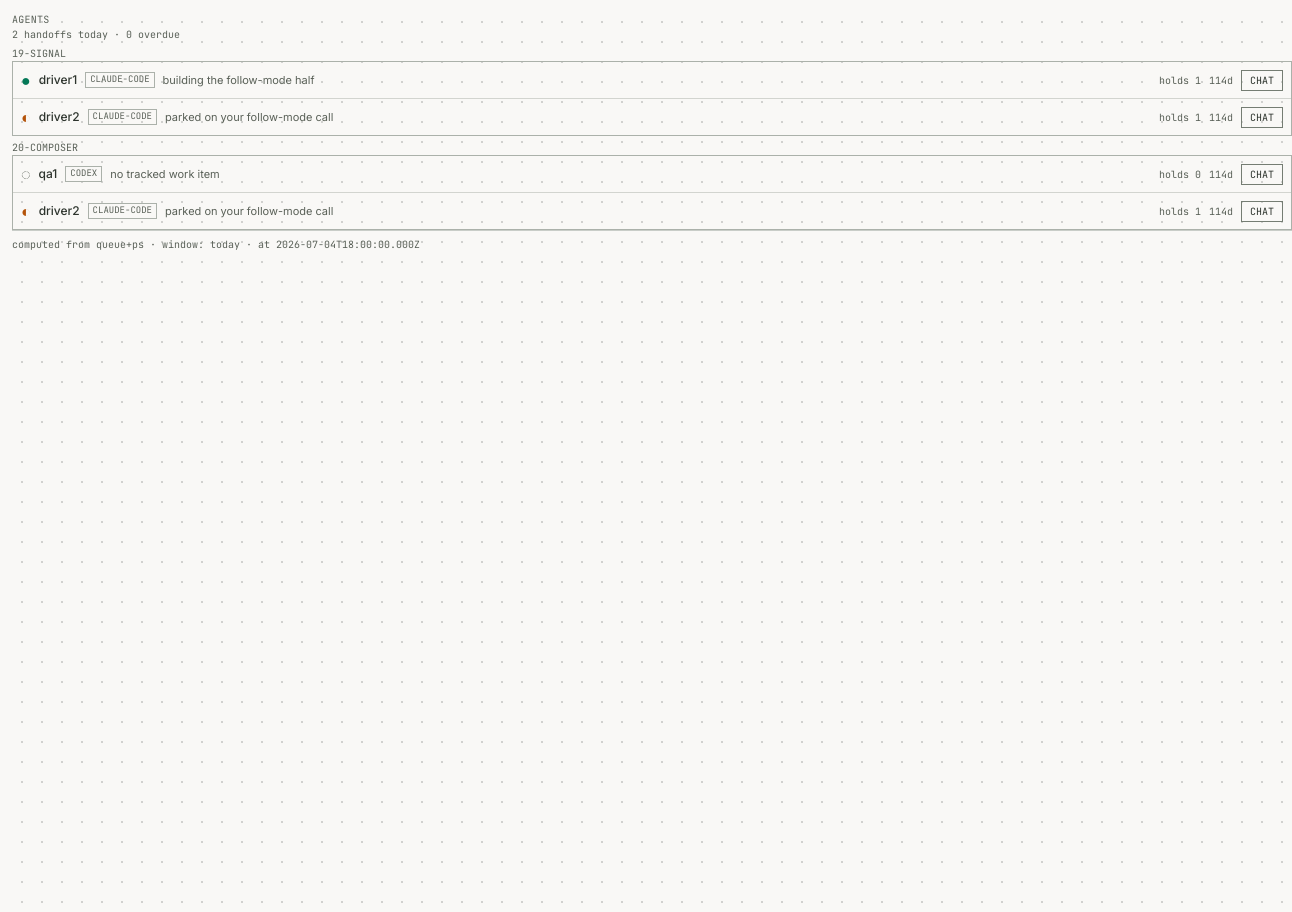
Test case: AgentsBandView grouping (extension in the one home) › by-slice duplicate rows open transcript drill independently per row instance
Step 1. Click the heading with test id "agent-drill-dev44-driver2@openrig-delivery" below "driver1" → (59, 116), box 21,105 -> 1233,129
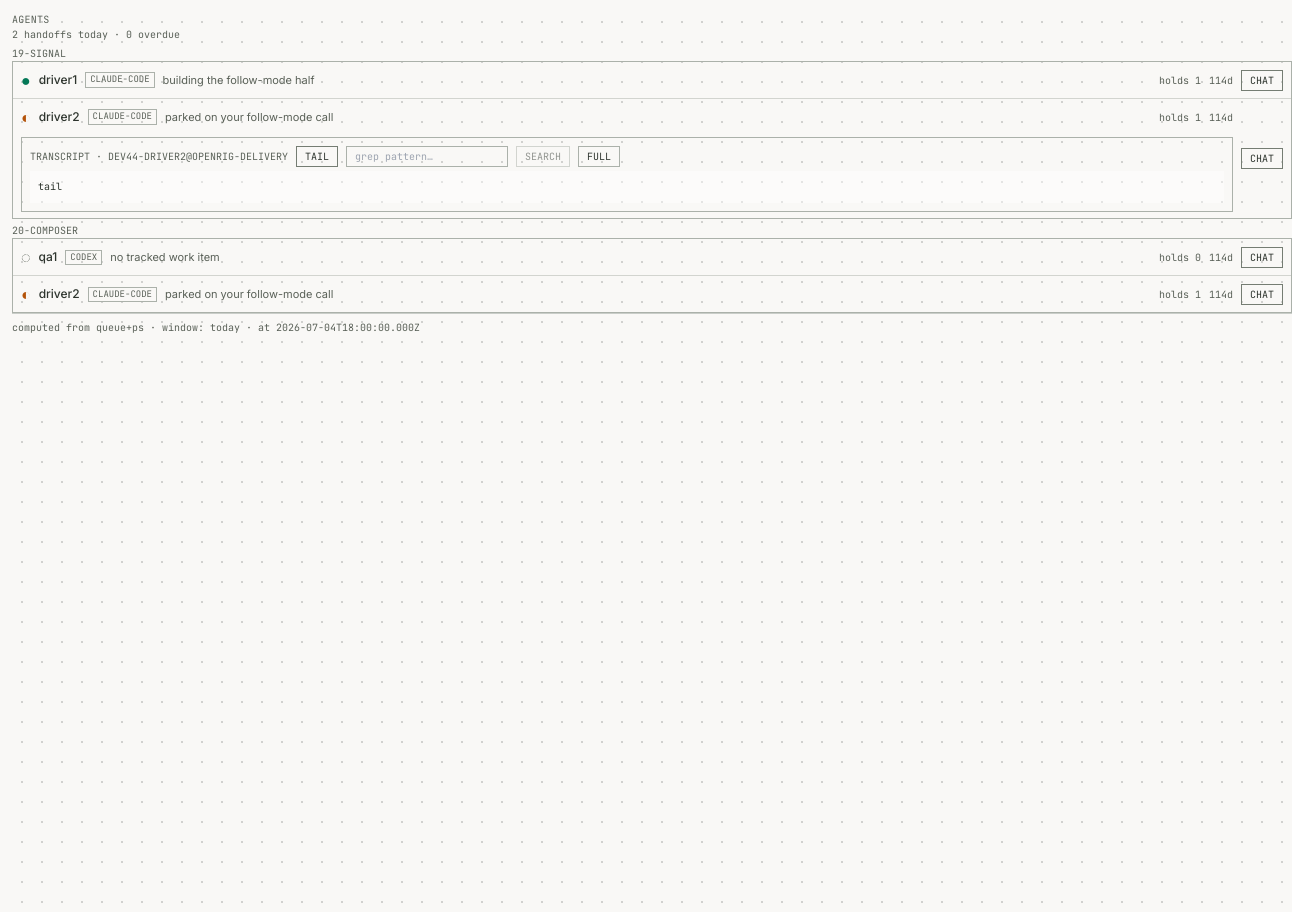
Expected: the number of elements with test id "transcript-drill-dev44-driver2@openrig-delivery" is 1, 21,137 -> 1233,212
